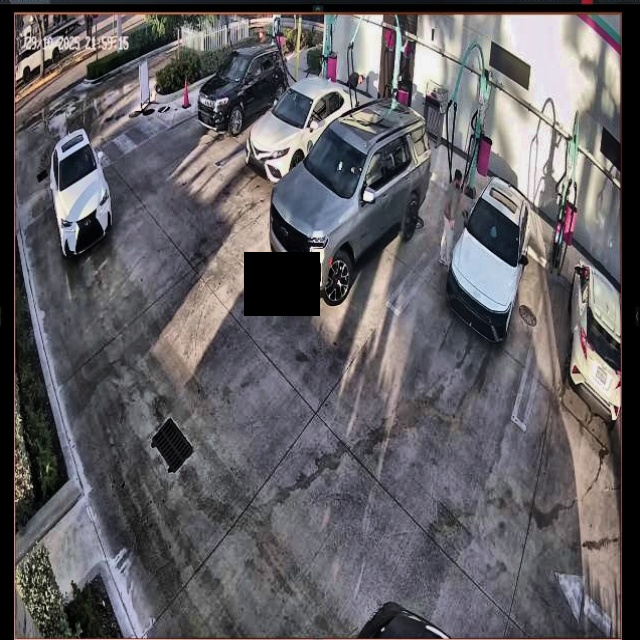Car: (270, 101, 431, 301), (446, 176, 530, 344), (248, 78, 358, 180)
